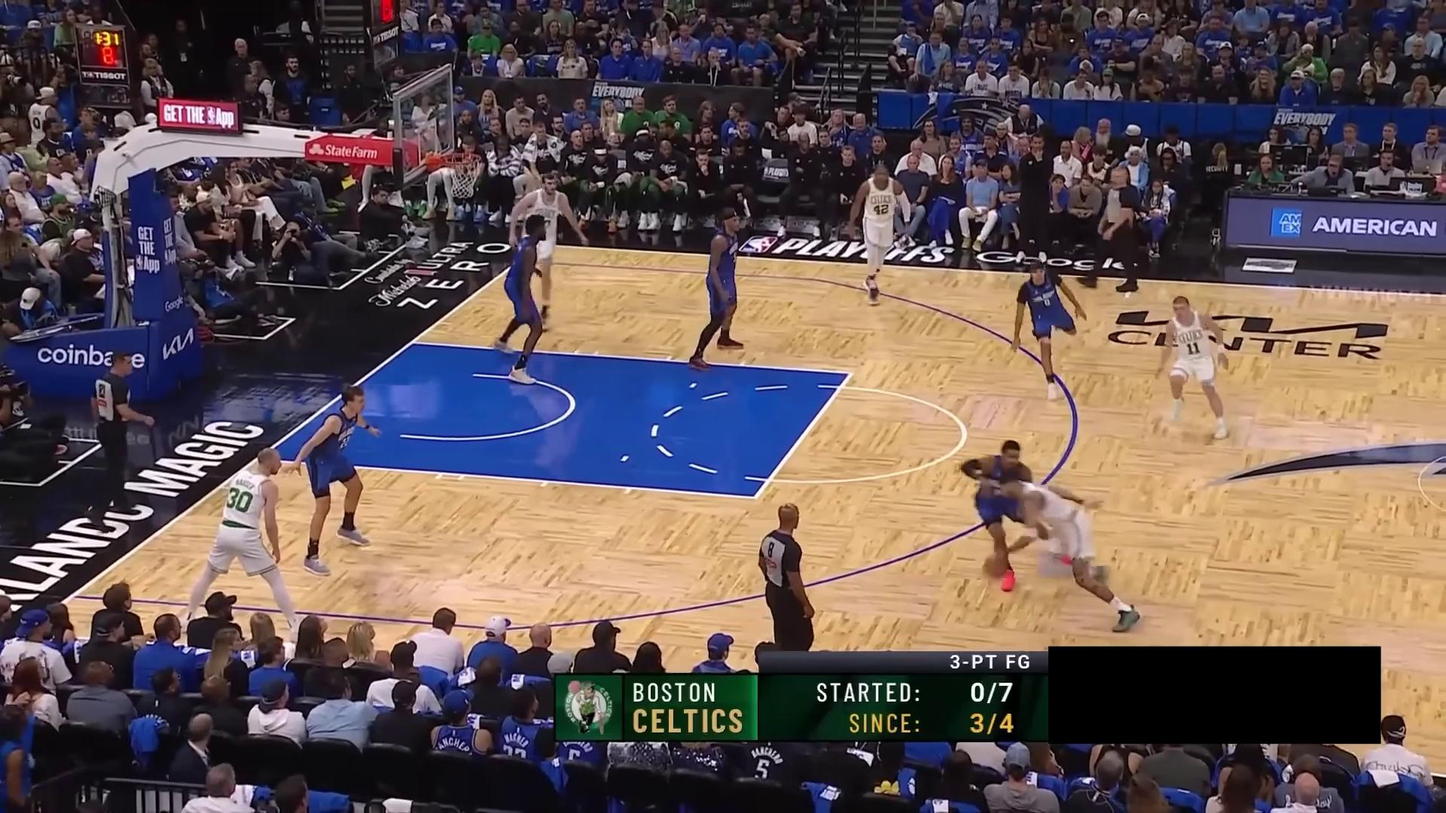ball: (983, 552, 1009, 579)
number: (226, 485, 254, 514), (1186, 340, 1201, 356), (873, 202, 890, 216), (340, 434, 351, 449), (1044, 297, 1051, 307)
player: (178, 447, 307, 641), (282, 381, 386, 577), (956, 436, 1082, 593), (506, 170, 593, 337), (1153, 294, 1239, 444), (1006, 262, 1090, 405), (492, 213, 553, 390), (686, 208, 745, 373), (846, 161, 912, 306)
player-in-possession: (977, 468, 1143, 634)
referee: (85, 344, 159, 533), (755, 500, 824, 654), (1077, 164, 1143, 297)
rim: (439, 149, 484, 169)
